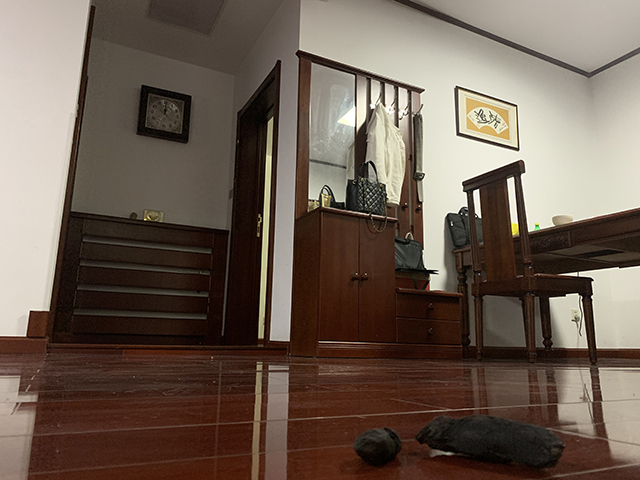cabinet: (289, 205, 465, 361)
feces: (413, 413, 568, 472), (351, 425, 405, 465)
stool: (461, 159, 601, 366)
table: (450, 206, 640, 359)
